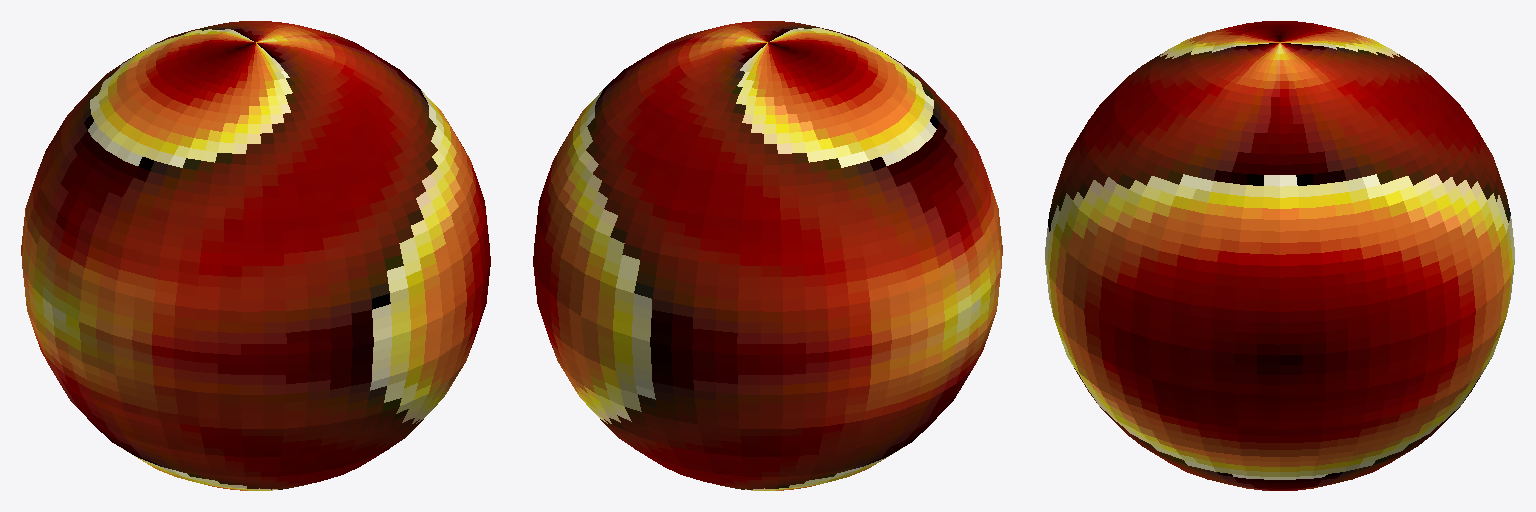
3 renders of one model, left to right at view 1: azimuth 30°, elevation 25°; view 2: azimuth 150°, elevation 25°; view 3: azimuth 270°, elevation 25°, orthographic.
Parts seen in each view (by area): view 1: Grid; view 2: Grid; view 3: Grid.
Part boxes in pixels (x1,y1,x2,y2): Grid: (21,21,490,490); Grid: (533,21,1002,490); Grid: (1045,21,1514,490).
Bounding box in the file's own units: 2 × 2 × 2.
Materials: 1 (1 with a texture image).